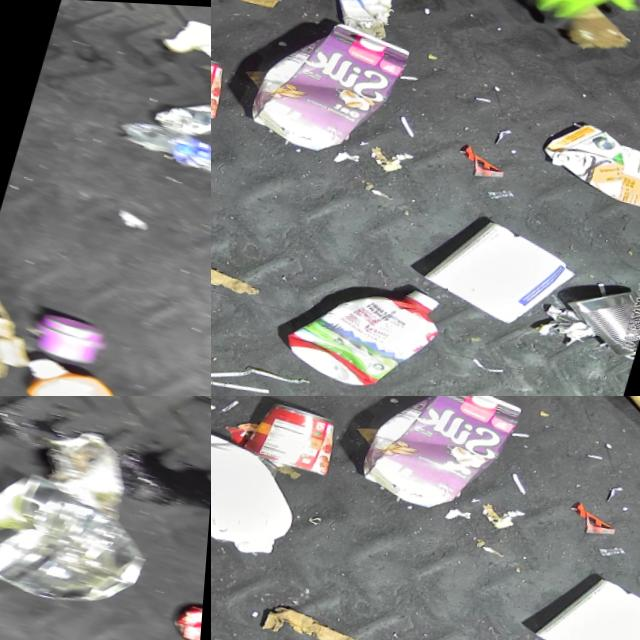can: (0, 448, 175, 618), (30, 412, 148, 515), (561, 268, 640, 354), (148, 70, 211, 162), (211, 37, 236, 118), (169, 589, 207, 640)
non_white_jug: (243, 2, 417, 163), (283, 256, 455, 396), (535, 108, 640, 209)
plastic_bottle: (110, 111, 211, 186)
